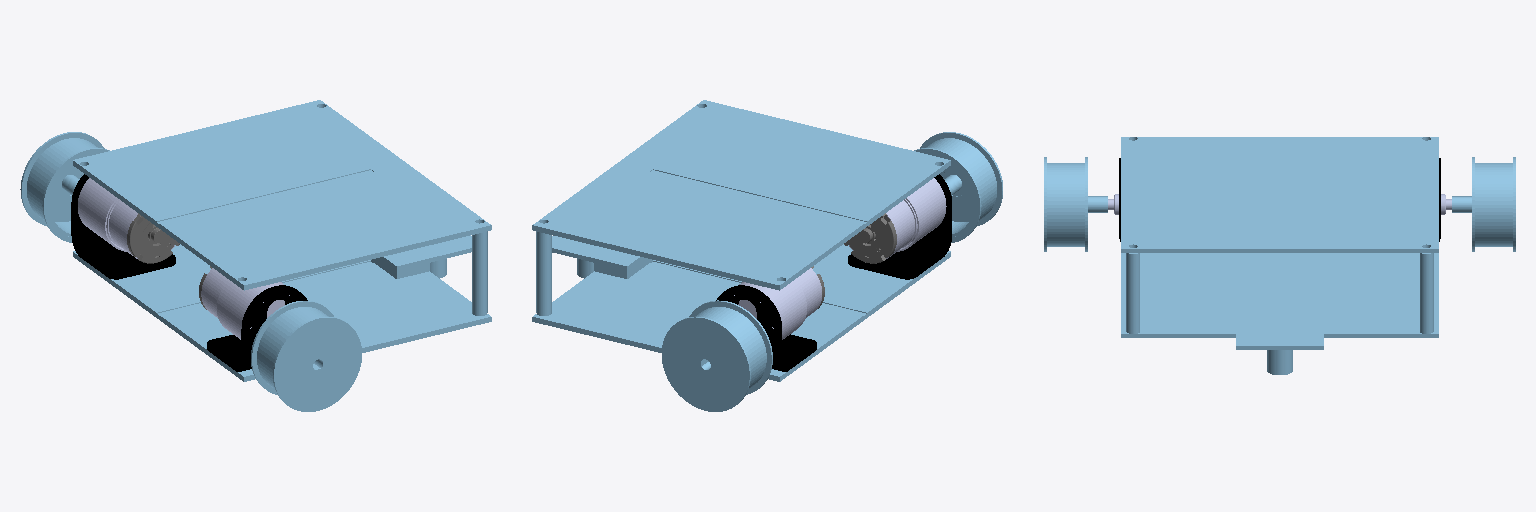
URDF robot description (turtlebot):
<?xml version="1.0" ?>
<!-- Generated using onshape-to-robot -->
<!-- Onshape document_id: adf8b6baeb682d7ae401b53c -->
<robot name="turtlebot">
  <!-- Link 1st_floor -->
  <link name="1st_floor">
    <inertial>
      <origin xyz="0 0 0" rpy="0 0 0"/>
      <mass value="1e-09"/>
      <inertia ixx="1e-09" ixy="0" ixz="0" iyy="1e-09" iyz="0" izz="1e-09"/>
    </inertial>
    <!-- Part part_1 -->
    <visual>
      <origin xyz="-0.142876 0.0158254 -0.0544899" rpy="1.5708 -0 -3.14159"/>
      <geometry>
        <mesh filename="package://my_robot_description/urdf/assets/part_1.stl"/>
      </geometry>
      <material name="part_1_material">
        <color rgba="0 0 0 1.0"/>
      </material>
    </visual>
    <collision>
      <origin xyz="-0.142876 0.0158254 -0.0544899" rpy="1.5708 -0 -3.14159"/>
      <geometry>
        <mesh filename="package://my_robot_description/urdf/assets/part_1.stl"/>
      </geometry>
    </collision>
    <!-- Part base_link -->
    <visual>
      <origin xyz="-0.0608549 -0.0244515 -0.0559899" rpy="0 -0 -1.5708"/>
      <geometry>
        <mesh filename="package://my_robot_description/urdf/assets/base_link.stl"/>
      </geometry>
      <material name="base_link_material">
        <color rgba="0.615686 0.811765 0.929412 1.0"/>
      </material>
    </visual>
    <collision>
      <origin xyz="-0.0608549 -0.0244515 -0.0559899" rpy="0 -0 -1.5708"/>
      <geometry>
        <mesh filename="package://my_robot_description/urdf/assets/base_link.stl"/>
      </geometry>
    </collision>
    <!-- Part part_1_2 -->
    <visual>
      <origin xyz="-0.0608549 -0.0244515 -0.00298989" rpy="0 -0 -1.5708"/>
      <geometry>
        <mesh filename="package://my_robot_description/urdf/assets/part_1__2.stl"/>
      </geometry>
      <material name="part_1_2_material">
        <color rgba="0.615686 0.811765 0.929412 1.0"/>
      </material>
    </visual>
    <collision>
      <origin xyz="-0.0608549 -0.0244515 -0.00298989" rpy="0 -0 -1.5708"/>
      <geometry>
        <mesh filename="package://my_robot_description/urdf/assets/part_1__2.stl"/>
      </geometry>
    </collision>
    <!-- Part part_1_3 -->
    <visual>
      <origin xyz="0.0111451 0.0585485 -0.0544899" rpy="0 -0 -1.5708"/>
      <geometry>
        <mesh filename="package://my_robot_description/urdf/assets/part_1__3.stl"/>
      </geometry>
      <material name="part_1_3_material">
        <color rgba="0.615686 0.811765 0.929412 1.0"/>
      </material>
    </visual>
    <collision>
      <origin xyz="0.0111451 0.0585485 -0.0544899" rpy="0 -0 -1.5708"/>
      <geometry>
        <mesh filename="package://my_robot_description/urdf/assets/part_1__3.stl"/>
      </geometry>
    </collision>
    <!-- Part part_1_4 -->
    <visual>
      <origin xyz="0.0111451 -0.107452 -0.0544899" rpy="0 -0 -1.5708"/>
      <geometry>
        <mesh filename="package://my_robot_description/urdf/assets/part_1__3.stl"/>
      </geometry>
      <material name="part_1_4_material">
        <color rgba="0.615686 0.811765 0.929412 1.0"/>
      </material>
    </visual>
    <collision>
      <origin xyz="0.0111451 -0.107452 -0.0544899" rpy="0 -0 -1.5708"/>
      <geometry>
        <mesh filename="package://my_robot_description/urdf/assets/part_1__3.stl"/>
      </geometry>
    </collision>
    <!-- Part part_1_5 -->
    <visual>
      <origin xyz="0.0306451 -0.0244515 -0.0504899" rpy="-2.6749e-32 1.73472e-16 -1.5708"/>
      <geometry>
        <mesh filename="package://my_robot_description/urdf/assets/part_1__4.stl"/>
      </geometry>
      <material name="part_1_5_material">
        <color rgba="0.615686 0.811765 0.929412 1.0"/>
      </material>
    </visual>
    <collision>
      <origin xyz="0.0306451 -0.0244515 -0.0504899" rpy="-2.6749e-32 1.73472e-16 -1.5708"/>
      <geometry>
        <mesh filename="package://my_robot_description/urdf/assets/part_1__4.stl"/>
      </geometry>
    </collision>
    <!-- Part part_1_6 -->
    <visual>
      <origin xyz="-0.0889437 -0.0647285 -0.0544899" rpy="1.5708 -0 2.77556e-17"/>
      <geometry>
        <mesh filename="package://my_robot_description/urdf/assets/part_1.stl"/>
      </geometry>
      <material name="part_1_6_material">
        <color rgba="0 0 0 1.0"/>
      </material>
    </visual>
    <collision>
      <origin xyz="-0.0889437 -0.0647285 -0.0544899" rpy="1.5708 -0 2.77556e-17"/>
      <geometry>
        <mesh filename="package://my_robot_description/urdf/assets/part_1.stl"/>
      </geometry>
    </collision>
    <!-- Part shaft_coupler__jgb37_520 -->
    <visual>
      <origin xyz="-0.11586 0.0631585 -0.0346649" rpy="-1.5708 1.5708 0"/>
      <geometry>
        <mesh filename="package://my_robot_description/urdf/assets/shaft_coupler__jgb37_520.stl"/>
      </geometry>
      <material name="shaft_coupler__jgb37_520_material">
        <color rgba="0.792157 0.819608 0.933333 1.0"/>
      </material>
    </visual>
    <collision>
      <origin xyz="-0.11586 0.0631585 -0.0346649" rpy="-1.5708 1.5708 0"/>
      <geometry>
        <mesh filename="package://my_robot_description/urdf/assets/shaft_coupler__jgb37_520.stl"/>
      </geometry>
    </collision>
    <!-- Part geared_body__motor__jgb37_520 -->
    <visual>
      <origin xyz="-0.11586 0.0631585 -0.0276649" rpy="-1.5708 -2.55611e-48 1.87822e-16"/>
      <geometry>
        <mesh filename="package://my_robot_description/urdf/assets/geared_body__motor__jgb37_520.stl"/>
      </geometry>
      <material name="geared_body__motor__jgb37_520_material">
        <color rgba="0.792157 0.819608 0.933333 1.0"/>
      </material>
    </visual>
    <collision>
      <origin xyz="-0.11586 0.0631585 -0.0276649" rpy="-1.5708 -2.55611e-48 1.87822e-16"/>
      <geometry>
        <mesh filename="package://my_robot_description/urdf/assets/geared_body__motor__jgb37_520.stl"/>
      </geometry>
    </collision>
    <!-- Part plastic_cover__dc_motor__jgb37_520 -->
    <visual>
      <origin xyz="-0.11586 0.0146585 -0.0276649" rpy="-1.5708 -8.19577e-17 -1.05472e-17"/>
      <geometry>
        <mesh filename="package://my_robot_description/urdf/assets/plastic_cover__dc_motor__jgb37_520.stl"/>
      </geometry>
      <material name="plastic_cover__dc_motor__jgb37_520_material">
        <color rgba="0.501961 0.501961 0.501961 1.0"/>
      </material>
    </visual>
    <collision>
      <origin xyz="-0.11586 0.0146585 -0.0276649" rpy="-1.5708 -8.19577e-17 -1.05472e-17"/>
      <geometry>
        <mesh filename="package://my_robot_description/urdf/assets/plastic_cover__dc_motor__jgb37_520.stl"/>
      </geometry>
    </collision>
    <!-- Part coupling_bracket__geared_body_to_dc_motor__jgb37_520 -->
    <visual>
      <origin xyz="-0.11586 0.0381585 -0.0276649" rpy="-1.5708 -8.19577e-17 -1.05472e-17"/>
      <geometry>
        <mesh filename="package://my_robot_description/urdf/assets/coupling_bracket__geared_body_to_dc_motor__jgb37_520.stl"/>
      </geometry>
      <material name="coupling_bracket__geared_body_to_dc_motor__jgb37_520_material">
        <color rgba="0.792157 0.819608 0.933333 1.0"/>
      </material>
    </visual>
    <collision>
      <origin xyz="-0.11586 0.0381585 -0.0276649" rpy="-1.5708 -8.19577e-17 -1.05472e-17"/>
      <geometry>
        <mesh filename="package://my_robot_description/urdf/assets/coupling_bracket__geared_body_to_dc_motor__jgb37_520.stl"/>
      </geometry>
    </collision>
    <!-- Part motor_shaft__jgb37_520 -->
    <visual>
      <origin xyz="-0.11586 0.0631585 -0.0346649" rpy="1.5708 7.13592e-17 -3.14159"/>
      <geometry>
        <mesh filename="package://my_robot_description/urdf/assets/motor_shaft__jgb37_520.stl"/>
      </geometry>
      <material name="motor_shaft__jgb37_520_material">
        <color rgba="0.792157 0.819608 0.933333 1.0"/>
      </material>
    </visual>
    <collision>
      <origin xyz="-0.11586 0.0631585 -0.0346649" rpy="1.5708 7.13592e-17 -3.14159"/>
      <geometry>
        <mesh filename="package://my_robot_description/urdf/assets/motor_shaft__jgb37_520.stl"/>
      </geometry>
    </collision>
    <!-- Part dc_motor__jgb37_520 -->
    <visual>
      <origin xyz="-0.11586 0.0341585 -0.0276649" rpy="1.5708 8.19577e-17 3.14159"/>
      <geometry>
        <mesh filename="package://my_robot_description/urdf/assets/dc_motor__jgb37_520.stl"/>
      </geometry>
      <material name="dc_motor__jgb37_520_material">
        <color rgba="0.792157 0.819608 0.933333 1.0"/>
      </material>
    </visual>
    <collision>
      <origin xyz="-0.11586 0.0341585 -0.0276649" rpy="1.5708 8.19577e-17 3.14159"/>
      <geometry>
        <mesh filename="package://my_robot_description/urdf/assets/dc_motor__jgb37_520.stl"/>
      </geometry>
    </collision>
    <!-- Part shaft_coupler__jgb37_520_2 -->
    <visual>
      <origin xyz="-0.11596 -0.112062 -0.0346649" rpy="1.5708 1.5708 0"/>
      <geometry>
        <mesh filename="package://my_robot_description/urdf/assets/shaft_coupler__jgb37_520.stl"/>
      </geometry>
      <material name="shaft_coupler__jgb37_520_2_material">
        <color rgba="0.792157 0.819608 0.933333 1.0"/>
      </material>
    </visual>
    <collision>
      <origin xyz="-0.11596 -0.112062 -0.0346649" rpy="1.5708 1.5708 0"/>
      <geometry>
        <mesh filename="package://my_robot_description/urdf/assets/shaft_coupler__jgb37_520.stl"/>
      </geometry>
    </collision>
    <!-- Part geared_body__motor__jgb37_520_2 -->
    <visual>
      <origin xyz="-0.11596 -0.112062 -0.0276649" rpy="-1.5708 -9.24446e-33 -3.14159"/>
      <geometry>
        <mesh filename="package://my_robot_description/urdf/assets/geared_body__motor__jgb37_520.stl"/>
      </geometry>
      <material name="geared_body__motor__jgb37_520_2_material">
        <color rgba="0.792157 0.819608 0.933333 1.0"/>
      </material>
    </visual>
    <collision>
      <origin xyz="-0.11596 -0.112062 -0.0276649" rpy="-1.5708 -9.24446e-33 -3.14159"/>
      <geometry>
        <mesh filename="package://my_robot_description/urdf/assets/geared_body__motor__jgb37_520.stl"/>
      </geometry>
    </collision>
    <!-- Part plastic_cover__dc_motor__jgb37_520_2 -->
    <visual>
      <origin xyz="-0.11596 -0.0635615 -0.0276649" rpy="-1.5708 2.95875e-16 -3.14159"/>
      <geometry>
        <mesh filename="package://my_robot_description/urdf/assets/plastic_cover__dc_motor__jgb37_520.stl"/>
      </geometry>
      <material name="plastic_cover__dc_motor__jgb37_520_2_material">
        <color rgba="0.501961 0.501961 0.501961 1.0"/>
      </material>
    </visual>
    <collision>
      <origin xyz="-0.11596 -0.0635615 -0.0276649" rpy="-1.5708 2.95875e-16 -3.14159"/>
      <geometry>
        <mesh filename="package://my_robot_description/urdf/assets/plastic_cover__dc_motor__jgb37_520.stl"/>
      </geometry>
    </collision>
    <!-- Part coupling_bracket__geared_body_to_dc_motor__jgb37_520_2 -->
    <visual>
      <origin xyz="-0.11596 -0.0870615 -0.0276649" rpy="-1.5708 2.95875e-16 -3.14159"/>
      <geometry>
        <mesh filename="package://my_robot_description/urdf/assets/coupling_bracket__geared_body_to_dc_motor__jgb37_520.stl"/>
      </geometry>
      <material name="coupling_bracket__geared_body_to_dc_motor__jgb37_520_2_material">
        <color rgba="0.792157 0.819608 0.933333 1.0"/>
      </material>
    </visual>
    <collision>
      <origin xyz="-0.11596 -0.0870615 -0.0276649" rpy="-1.5708 2.95875e-16 -3.14159"/>
      <geometry>
        <mesh filename="package://my_robot_description/urdf/assets/coupling_bracket__geared_body_to_dc_motor__jgb37_520.stl"/>
      </geometry>
    </collision>
    <!-- Part motor_shaft__jgb37_520_2 -->
    <visual>
      <origin xyz="-0.11596 -0.112062 -0.0346649" rpy="1.5708 8.62817e-32 3.20134e-16"/>
      <geometry>
        <mesh filename="package://my_robot_description/urdf/assets/motor_shaft__jgb37_520.stl"/>
      </geometry>
      <material name="motor_shaft__jgb37_520_2_material">
        <color rgba="0.792157 0.819608 0.933333 1.0"/>
      </material>
    </visual>
    <collision>
      <origin xyz="-0.11596 -0.112062 -0.0346649" rpy="1.5708 8.62817e-32 3.20134e-16"/>
      <geometry>
        <mesh filename="package://my_robot_description/urdf/assets/motor_shaft__jgb37_520.stl"/>
      </geometry>
    </collision>
    <!-- Part dc_motor__jgb37_520_2 -->
    <visual>
      <origin xyz="-0.11596 -0.0830615 -0.0276649" rpy="1.5708 1.84889e-32 3.20134e-16"/>
      <geometry>
        <mesh filename="package://my_robot_description/urdf/assets/dc_motor__jgb37_520.stl"/>
      </geometry>
      <material name="dc_motor__jgb37_520_2_material">
        <color rgba="0.792157 0.819608 0.933333 1.0"/>
      </material>
    </visual>
    <collision>
      <origin xyz="-0.11596 -0.0830615 -0.0276649" rpy="1.5708 1.84889e-32 3.20134e-16"/>
      <geometry>
        <mesh filename="package://my_robot_description/urdf/assets/dc_motor__jgb37_520.stl"/>
      </geometry>
    </collision>
  </link>
  <!-- Link wheel_assembly -->
  <link name="wheel_assembly">
    <inertial>
      <origin xyz="0 0 0" rpy="0 0 0"/>
      <mass value="1e-09"/>
      <inertia ixx="1e-09" ixy="0" ixz="0" iyy="1e-09" iyz="0" izz="1e-09"/>
    </inertial>
    <!-- Part part_1_7 -->
    <visual>
      <origin xyz="-1.38778e-17 0 -0.0361" rpy="-5.55112e-17 5.55112e-17 1.5708"/>
      <geometry>
        <mesh filename="package://my_robot_description/urdf/assets/part_1__5.stl"/>
      </geometry>
      <material name="part_1_7_material">
        <color rgba="0.615686 0.811765 0.929412 1.0"/>
      </material>
    </visual>
    <collision>
      <origin xyz="-1.38778e-17 0 -0.0361" rpy="-5.55112e-17 5.55112e-17 1.5708"/>
      <geometry>
        <mesh filename="package://my_robot_description/urdf/assets/part_1__5.stl"/>
      </geometry>
    </collision>
    <!-- Part part_1_8 -->
    <visual>
      <origin xyz="-1.38778e-17 2.08167e-17 -0.0106" rpy="-2.53009e-17 5.55112e-17 1.5708"/>
      <geometry>
        <mesh filename="package://my_robot_description/urdf/assets/part_1__6.stl"/>
      </geometry>
      <material name="part_1_8_material">
        <color rgba="0.290196 0.290196 0.290196 1.0"/>
      </material>
    </visual>
    <collision>
      <origin xyz="-1.38778e-17 2.08167e-17 -0.0106" rpy="-2.53009e-17 5.55112e-17 1.5708"/>
      <geometry>
        <mesh filename="package://my_robot_description/urdf/assets/part_1__6.stl"/>
      </geometry>
    </collision>
  </link>
  <!-- Joint from 1st_floor to wheel_assembly -->
  <joint name="left_wheel" type="continuous">
    <origin xyz="-0.11586 0.0726585 -0.0346649" rpy="-1.5708 7.13592e-17 -3.14159"/>
    <parent link="1st_floor"/>
    <child link="wheel_assembly"/>
    <axis xyz="0 0 -1"/>
    <limit effort="10" velocity="10"/>
  </joint>
  <!-- Link wheel_assembly_2 -->
  <link name="wheel_assembly_2">
    <inertial>
      <origin xyz="0 0 0" rpy="0 0 0"/>
      <mass value="1e-09"/>
      <inertia ixx="1e-09" ixy="0" ixz="0" iyy="1e-09" iyz="0" izz="1e-09"/>
    </inertial>
    <!-- Part part_1_9 -->
    <visual>
      <origin xyz="0 0 -0.0361" rpy="0 -2.59158e-46 0"/>
      <geometry>
        <mesh filename="package://my_robot_description/urdf/assets/part_1__5.stl"/>
      </geometry>
      <material name="part_1_9_material">
        <color rgba="0.615686 0.811765 0.929412 1.0"/>
      </material>
    </visual>
    <collision>
      <origin xyz="0 0 -0.0361" rpy="0 -2.59158e-46 0"/>
      <geometry>
        <mesh filename="package://my_robot_description/urdf/assets/part_1__5.stl"/>
      </geometry>
    </collision>
    <!-- Part part_1_10 -->
    <visual>
      <origin xyz="0 -6.93889e-18 -0.0106" rpy="3.95517e-16 6.11567e-16 -1.1402e-30"/>
      <geometry>
        <mesh filename="package://my_robot_description/urdf/assets/part_1__6.stl"/>
      </geometry>
      <material name="part_1_10_material">
        <color rgba="0.290196 0.290196 0.290196 1.0"/>
      </material>
    </visual>
    <collision>
      <origin xyz="0 -6.93889e-18 -0.0106" rpy="3.95517e-16 6.11567e-16 -1.1402e-30"/>
      <geometry>
        <mesh filename="package://my_robot_description/urdf/assets/part_1__6.stl"/>
      </geometry>
    </collision>
  </link>
  <!-- Joint from 1st_floor to wheel_assembly_2 -->
  <joint name="right_wheel" type="continuous">
    <origin xyz="-0.11596 -0.121562 -0.0346649" rpy="-1.5708 6.22477e-31 6.11567e-16"/>
    <parent link="1st_floor"/>
    <child link="wheel_assembly_2"/>
    <axis xyz="0 0 1"/>
    <limit effort="10" velocity="10"/>
  </joint>
</robot>

--- Facts derived from the render (not from the file) ---
Views: 3 orthographic renders of the robot side by side, from view 1: azimuth 30°, elevation 25°; view 2: azimuth 150°, elevation 25°; view 3: azimuth 270°, elevation 25°.
Robot: turtlebot — 3 links, 2 joints (2 continuous); root link 1st_floor; default pose: every joint at zero.
Links seen in each view (by area): view 1: 1st_floor, wheel_assembly_2, wheel_assembly; view 2: 1st_floor, wheel_assembly, wheel_assembly_2; view 3: 1st_floor, wheel_assembly, wheel_assembly_2.
Boxes of the visible links, left/top/right/bottom form: 1st_floor: left=71, top=100, right=491, bottom=381; wheel_assembly_2: left=251, top=301, right=361, bottom=411; wheel_assembly: left=20, top=132, right=109, bottom=242; 1st_floor: left=532, top=100, right=951, bottom=381; wheel_assembly: left=662, top=300, right=772, bottom=411; wheel_assembly_2: left=914, top=132, right=1002, bottom=242; 1st_floor: left=1108, top=137, right=1451, bottom=374; wheel_assembly: left=1452, top=157, right=1515, bottom=251; wheel_assembly_2: left=1044, top=157, right=1107, bottom=251.
Size in the robot's own frame: 0.1899 by 0.2664 by 0.068 metres.
21 mesh visuals loaded from 13 distinct referenced files (12 binary STL); not drawn: 2 (reference not matched to a file when rendering).